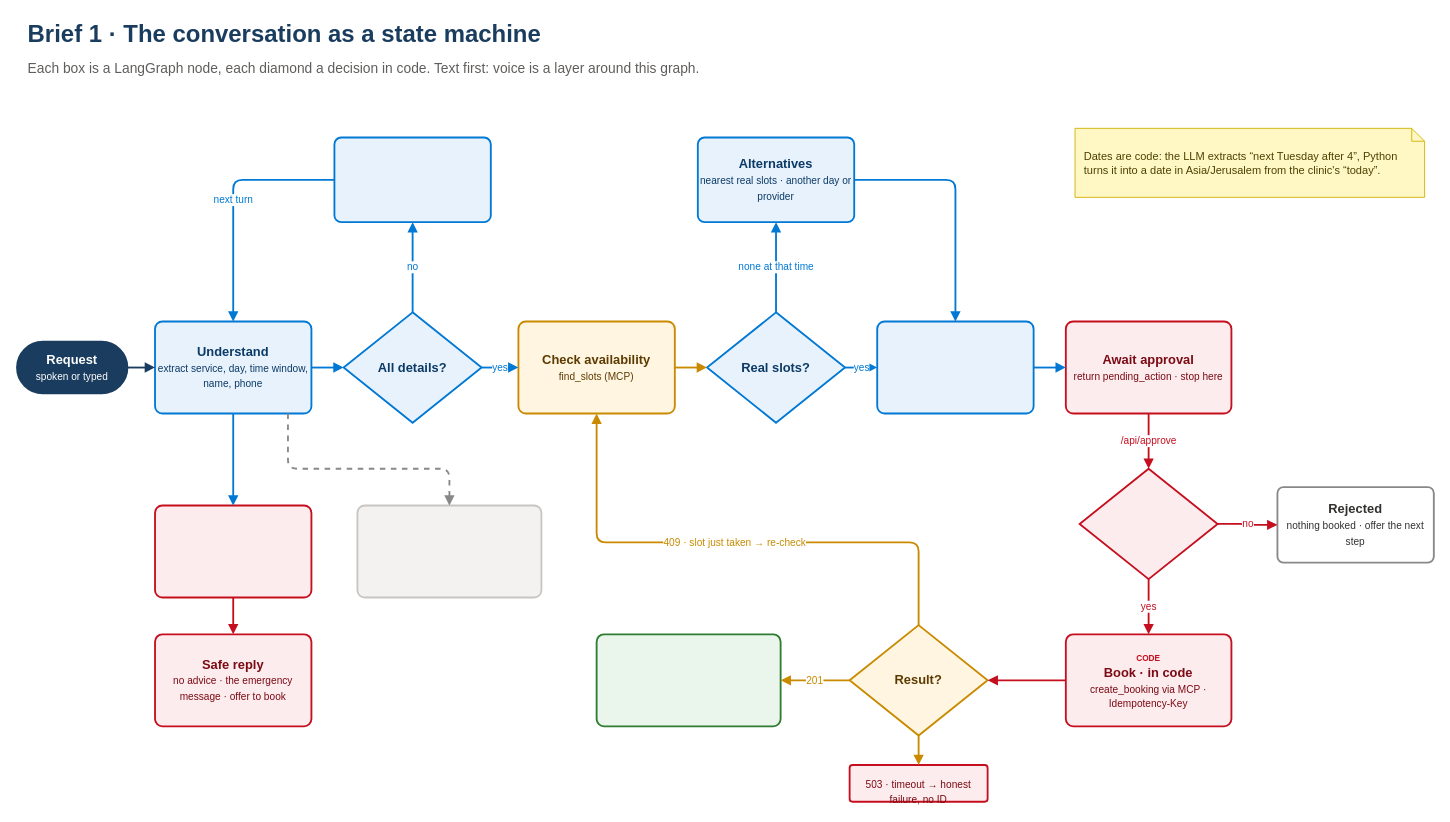
Image size: 1450x822. Some labels were removed from this diagram. Here are the shapes that lost their labels. From the top down, the centre of each, then its label:
the point at 412,179: Collect ask ONE question for what's missing
the point at 955,367: Propose & read back ≤ 3 real slots · exact service, day, time, provider
the point at 1148,523: Approved?
the point at 233,551: Out of scope medical question · emergency
the point at 449,551: Cancel · reschedule stretch goal: each write behind its own approval
the point at 688,680: Confirmed BK- ID from the API · speak it · save_patient
